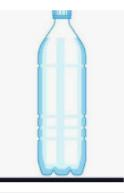plastic_bottle: (34, 7, 91, 176)
